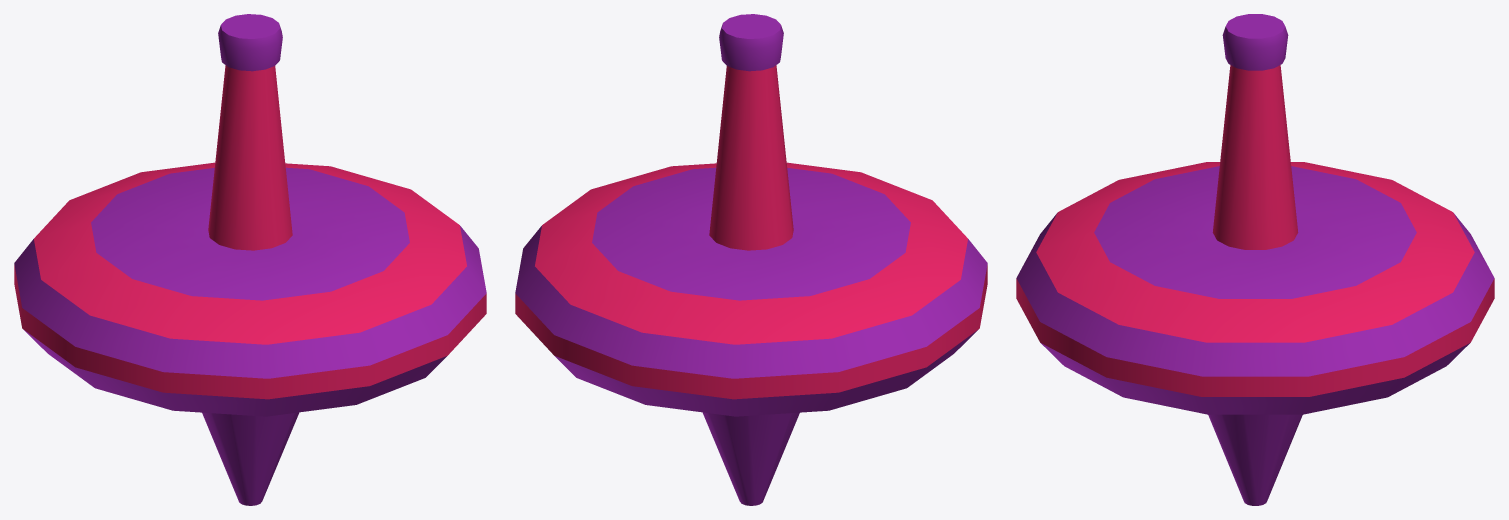
File: Spinning_Top.fbx
3 renders of one model, left to right at view 1: azimuth 30°, elevation 25°; view 2: azimuth 150°, elevation 25°; view 3: azimuth 270°, elevation 25°, orthographic.
Visible parts, largest first — view 1: Spinning_Top; view 2: Spinning_Top; view 3: Spinning_Top.
Boxes of the visible parts, <box> form: Spinning_Top: <box>14,14,486,505</box>; Spinning_Top: <box>515,14,987,505</box>; Spinning_Top: <box>1016,14,1494,505</box>.
Bounding box in the file's own units: 8.73 × 9.81 × 8.96.
1 material, 1 textured.
